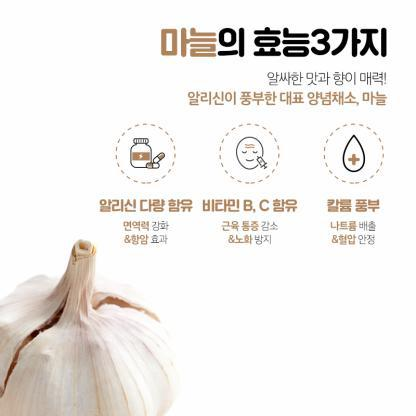garlic: (10, 252, 186, 415)
